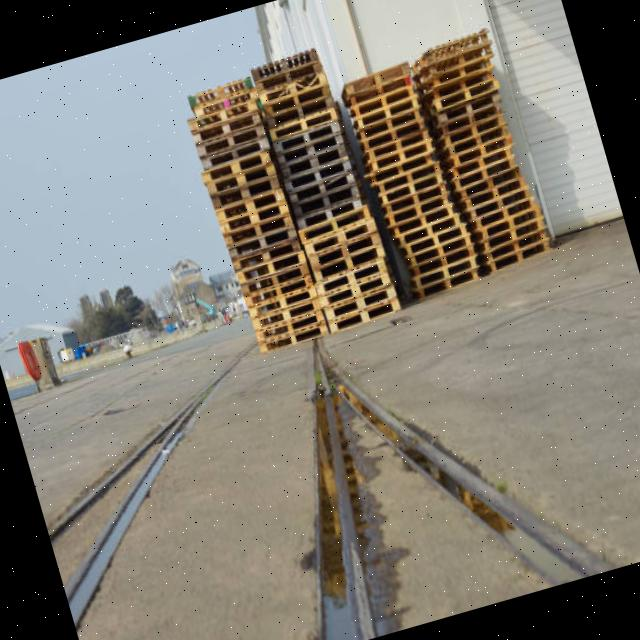Wooden-Pallets: (180, 24, 556, 360), (398, 222, 478, 282), (319, 269, 403, 322), (240, 271, 322, 325), (442, 124, 522, 178), (353, 102, 434, 155), (294, 193, 376, 243), (311, 248, 391, 299), (306, 222, 386, 270), (345, 68, 419, 119), (429, 65, 506, 114), (337, 55, 409, 107), (195, 142, 277, 186), (248, 294, 326, 340), (232, 243, 310, 288), (374, 168, 452, 212), (188, 104, 266, 148), (224, 218, 298, 263), (410, 257, 483, 302), (213, 182, 290, 224), (385, 193, 460, 236), (274, 125, 348, 168), (280, 157, 358, 196), (347, 89, 422, 129), (482, 232, 554, 273), (289, 171, 362, 211), (266, 102, 340, 140), (438, 97, 509, 136), (467, 184, 537, 222), (476, 202, 544, 241), (279, 146, 352, 182)
